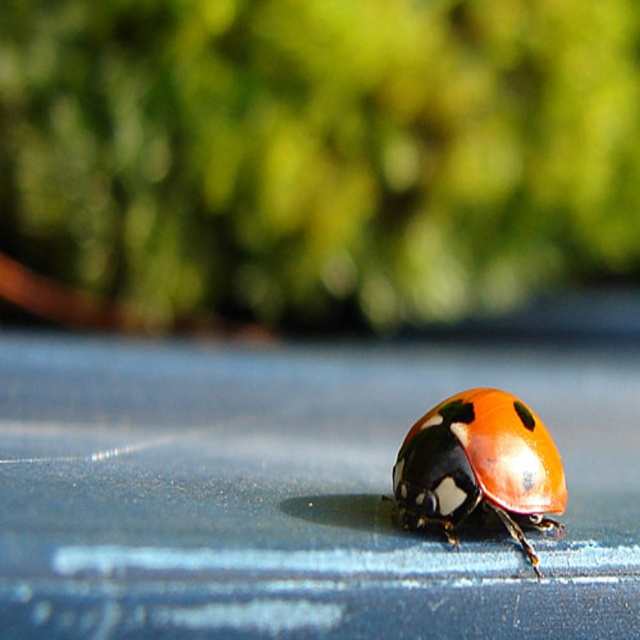Ladybug: (383, 384, 570, 579)
